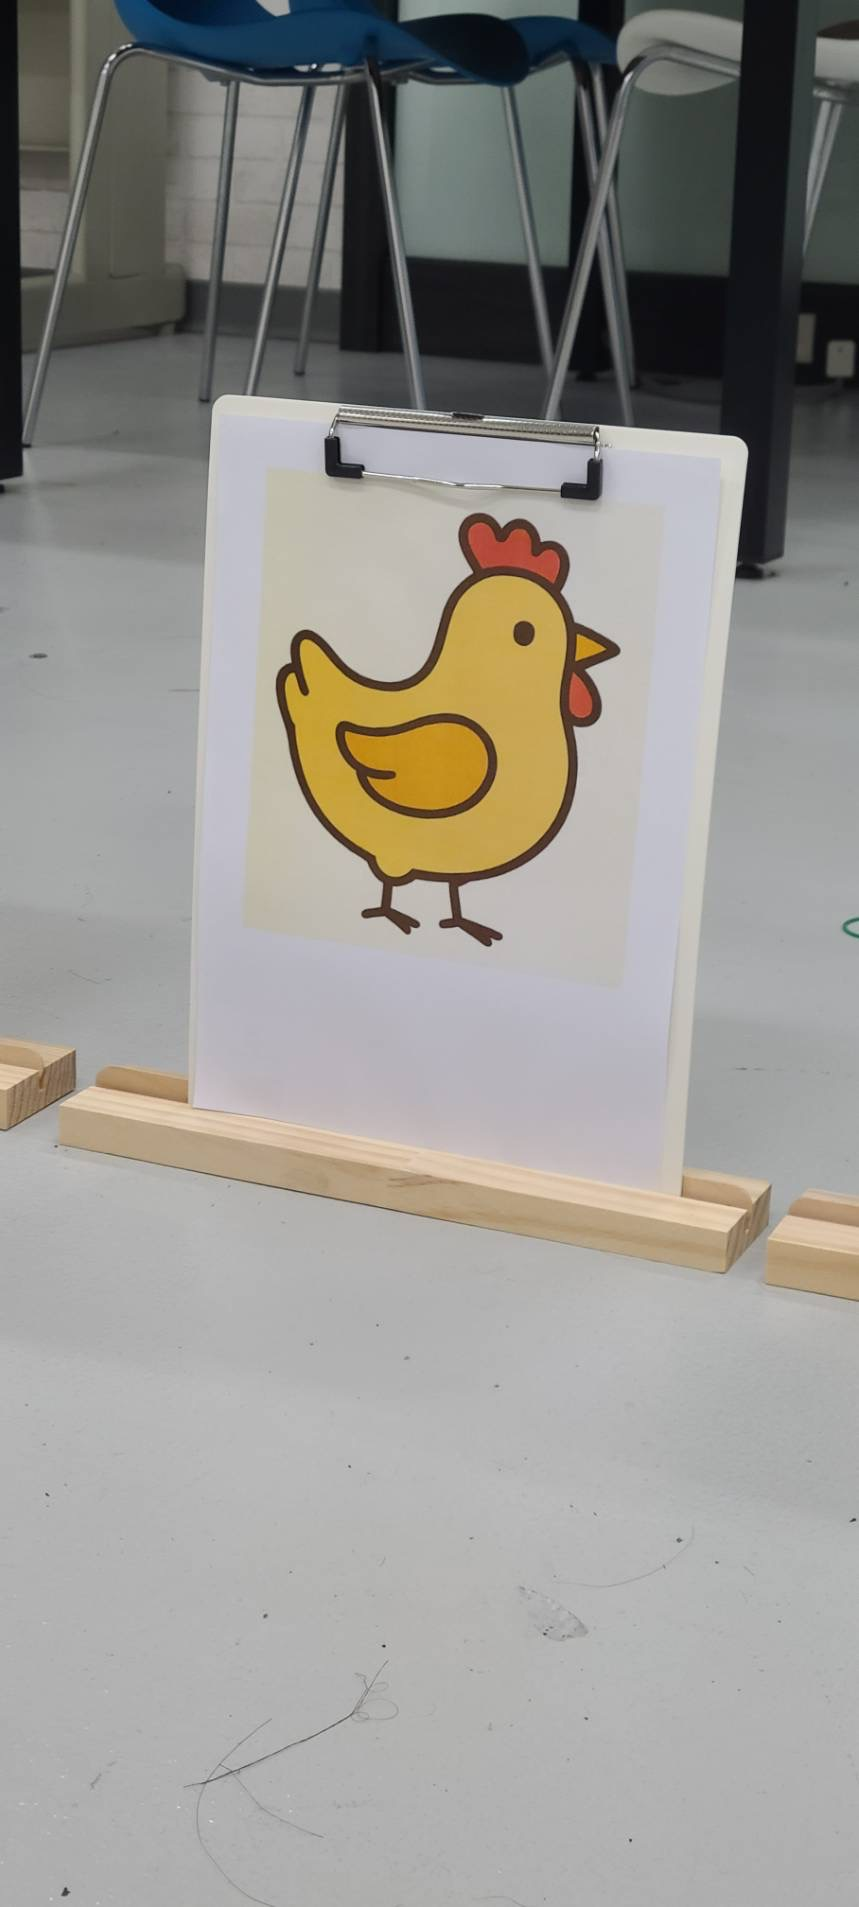chick: (275, 508, 628, 950)
